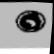correct: (9, 3, 50, 39)
